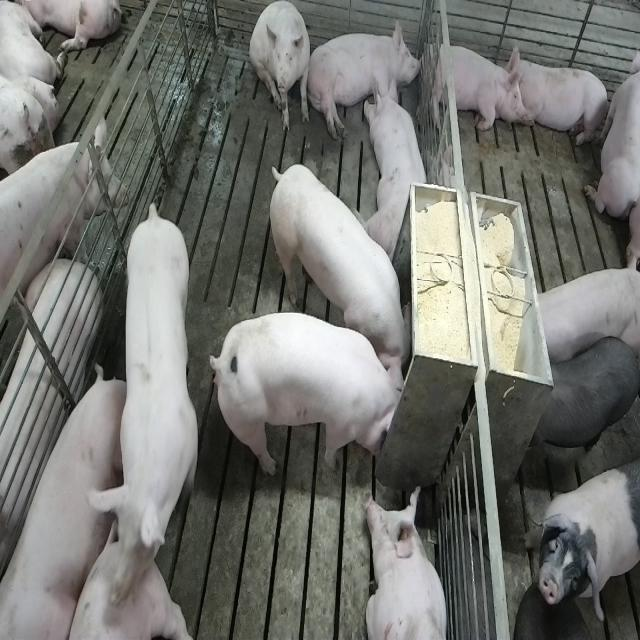Feeding: (208, 309, 408, 480), (264, 161, 412, 381)
Lateral_lying: (0, 366, 125, 640), (0, 261, 101, 580), (307, 16, 423, 142)
Sitting: (250, 1, 312, 135)
Standing: (114, 202, 201, 594), (0, 120, 127, 353), (526, 334, 638, 484), (534, 466, 638, 618), (526, 263, 637, 365)
Sternal_lying: (362, 485, 448, 640), (366, 73, 431, 260), (510, 50, 612, 151), (585, 34, 637, 225), (424, 37, 524, 134)
